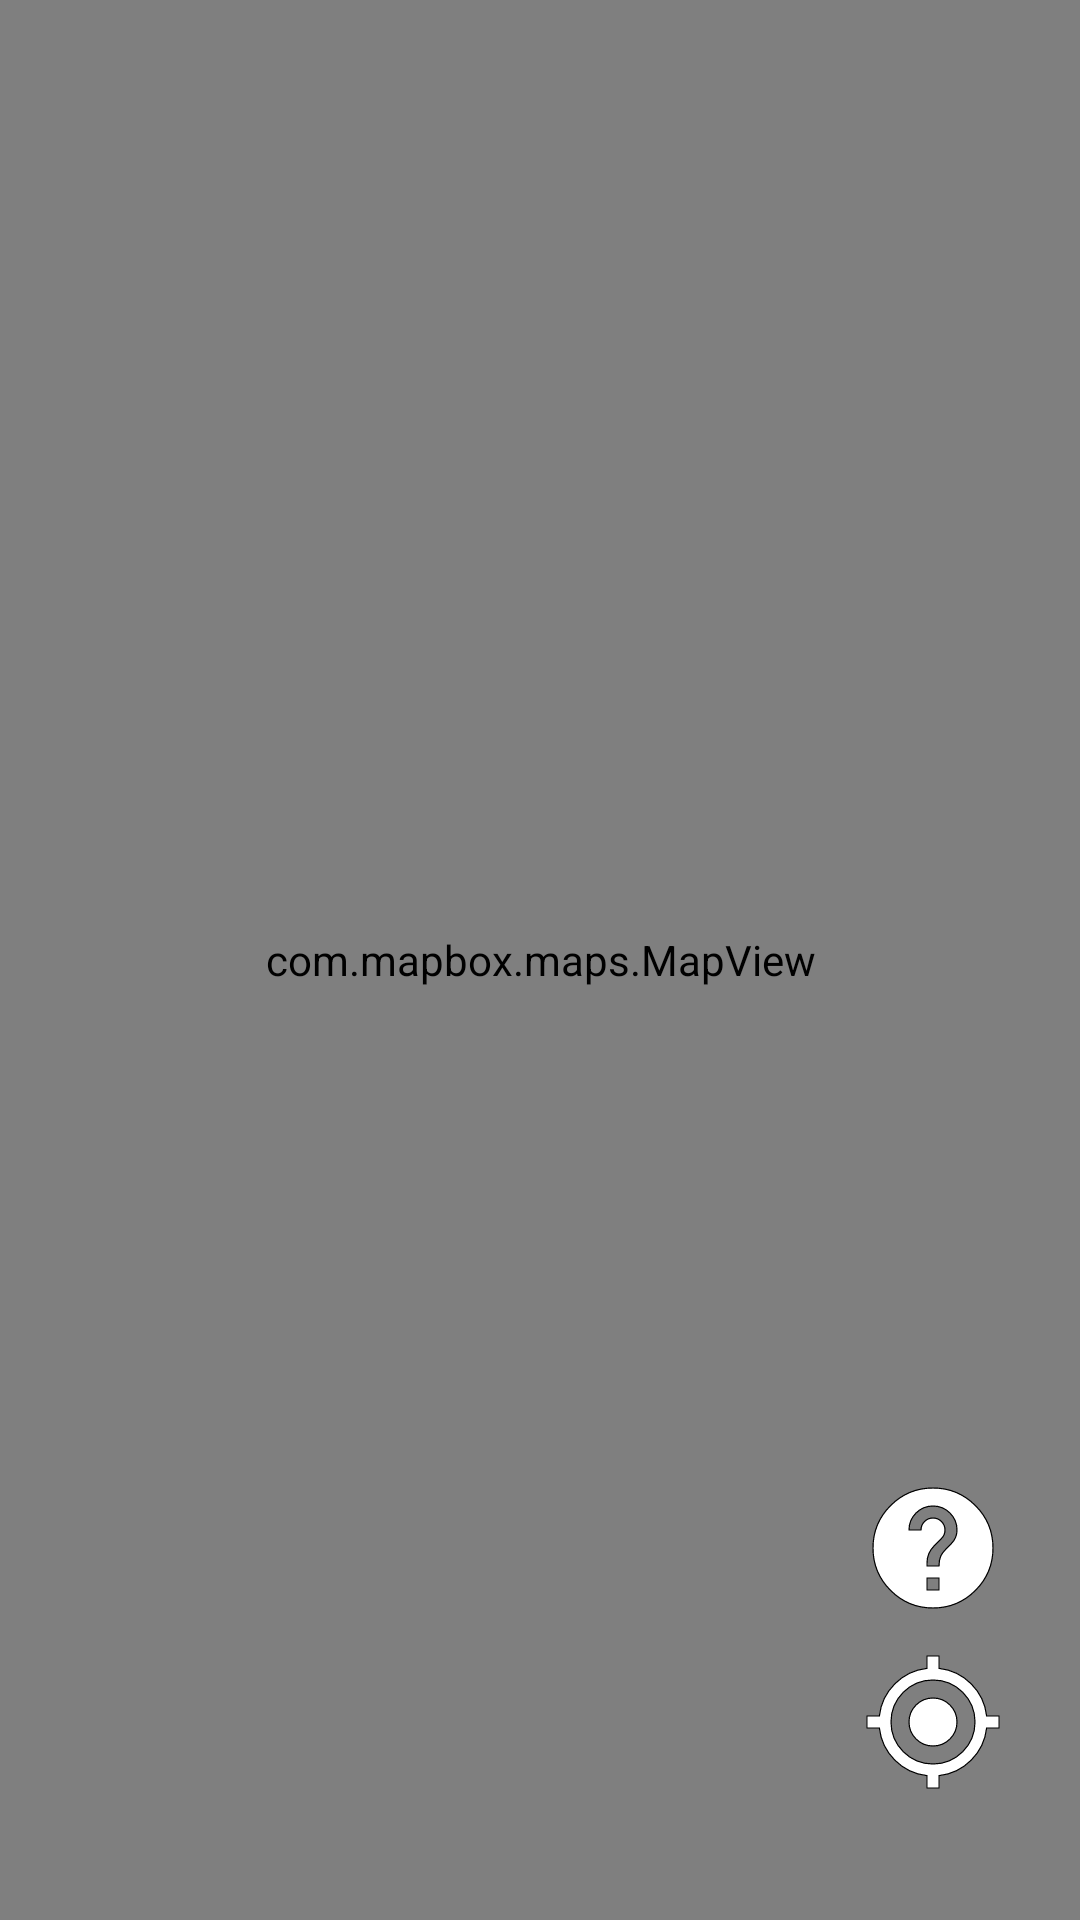

Where icons sit on this 1080w x 1920h app screen, as (x1, y1, x2, y2):
help: (872, 1487, 994, 1609)
location: (866, 1655, 1000, 1789)
